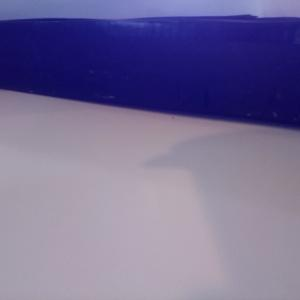zone: (1, 13, 299, 130)
